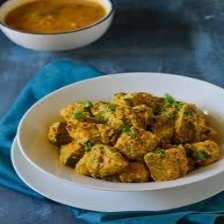dal: (1, 0, 112, 34)
